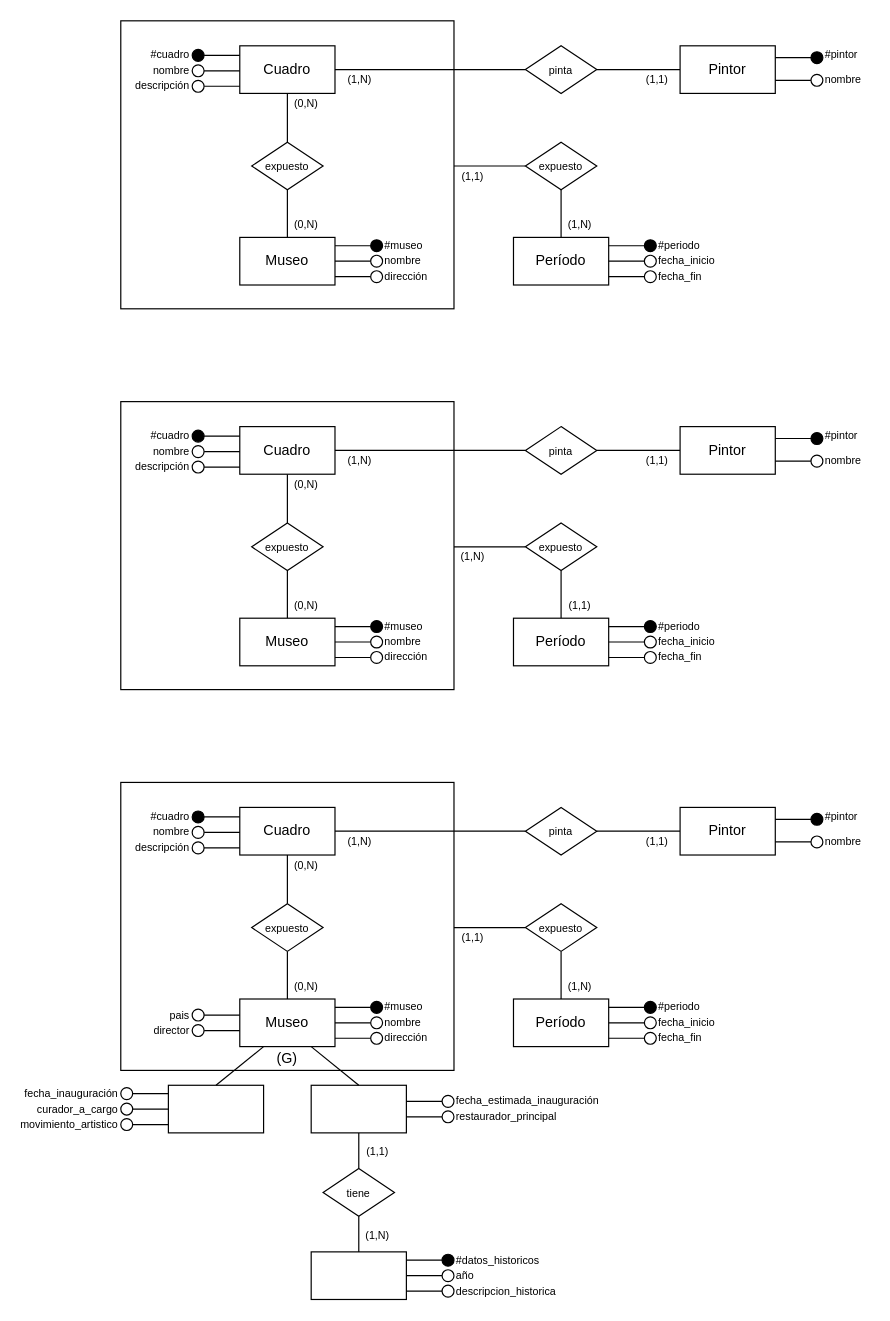
This 890x1321 diagram has some shape labels left out. The shapes that lost their labels are listed below. From the top down, each one's centre as x and y in pixels, then its label:
pixel 215 1108: ArteContemporáneo
pixel 358 1108: ArteEnGeneral
pixel 358 1275: DatosHistoricos
